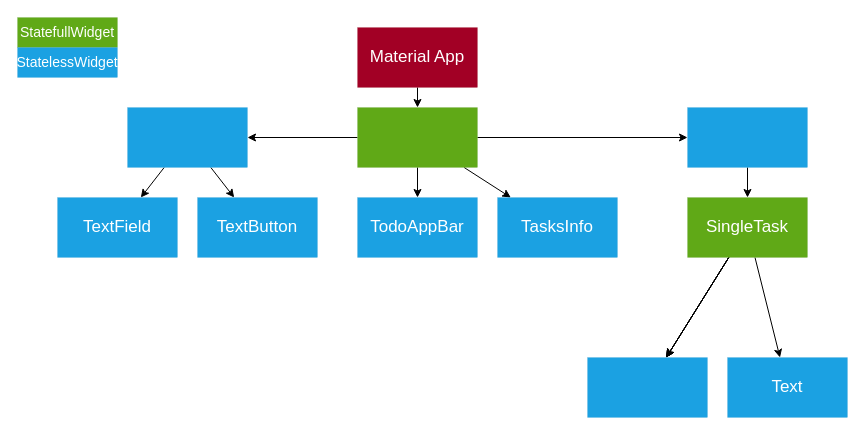
This 865x434 diagram has some shape labels left out. Here are the shapes that lost their labels. From the top down, the box of each, then its label:
(127, 107, 247, 167): AddTask
(357, 107, 477, 167): TodoScreen
(687, 107, 807, 167): TaskList
(587, 357, 707, 417): Checkbox
